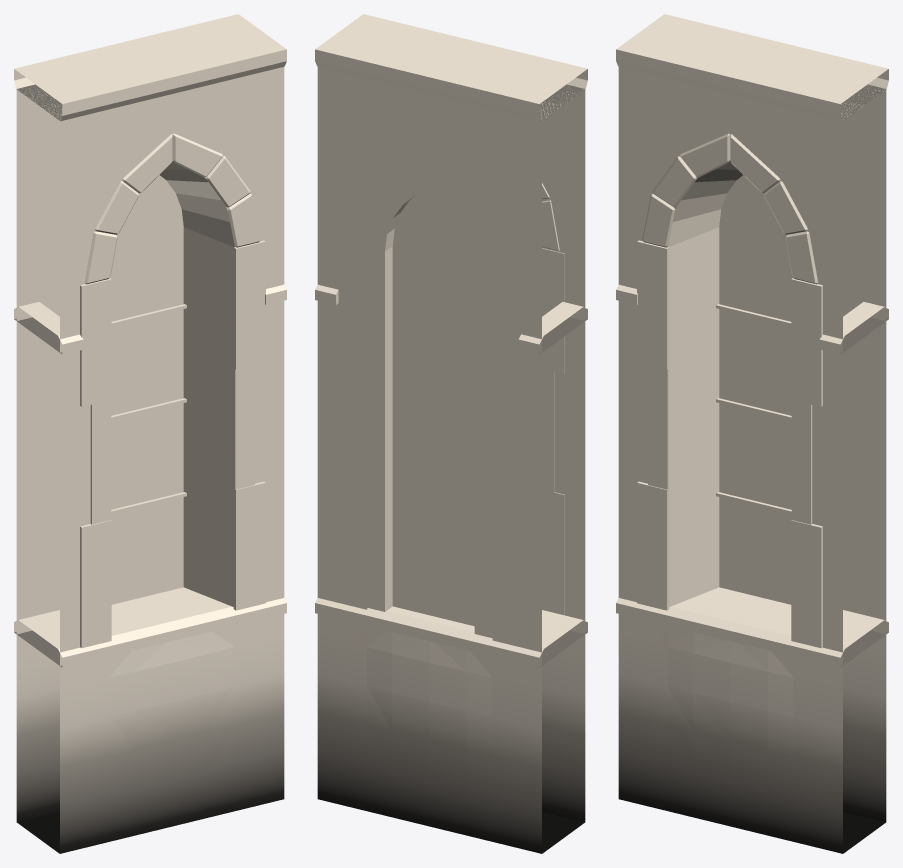
The model's file is SM_VKI_Wall_Ashlar_LancetTall_150_Full.fbx.
3 renders of one model, left to right at view 1: azimuth 30°, elevation 25°; view 2: azimuth 150°, elevation 25°; view 3: azimuth 330°, elevation 25°, orthographic.
Parts seen in each view (by area): view 1: SM_VKI_Wall_Ashlar_LancetTall_150_Full.001; view 2: SM_VKI_Wall_Ashlar_LancetTall_150_Full.001; view 3: SM_VKI_Wall_Ashlar_LancetTall_150_Full.001.
Part boxes in pixels (box(x1,y1,x2,y2)): SM_VKI_Wall_Ashlar_LancetTall_150_Full.001: box(14, 14, 286, 853); SM_VKI_Wall_Ashlar_LancetTall_150_Full.001: box(315, 14, 587, 853); SM_VKI_Wall_Ashlar_LancetTall_150_Full.001: box(616, 14, 888, 853).
Size of the model in its own units: 1.5 by 4.8 by 0.56.
